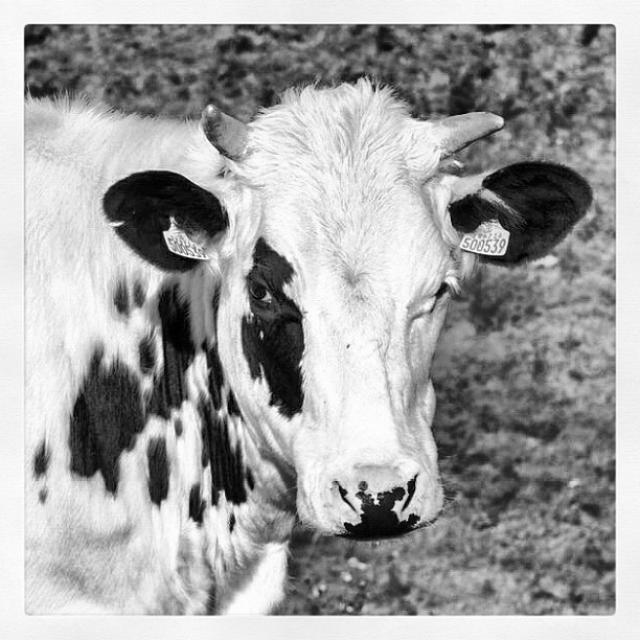cow: (22, 75, 588, 615)
